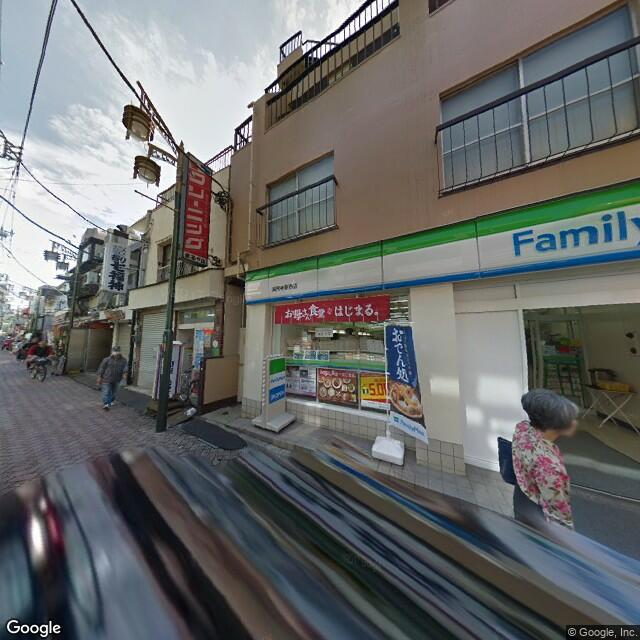family_mart: (244, 177, 639, 311), (509, 200, 639, 272)
